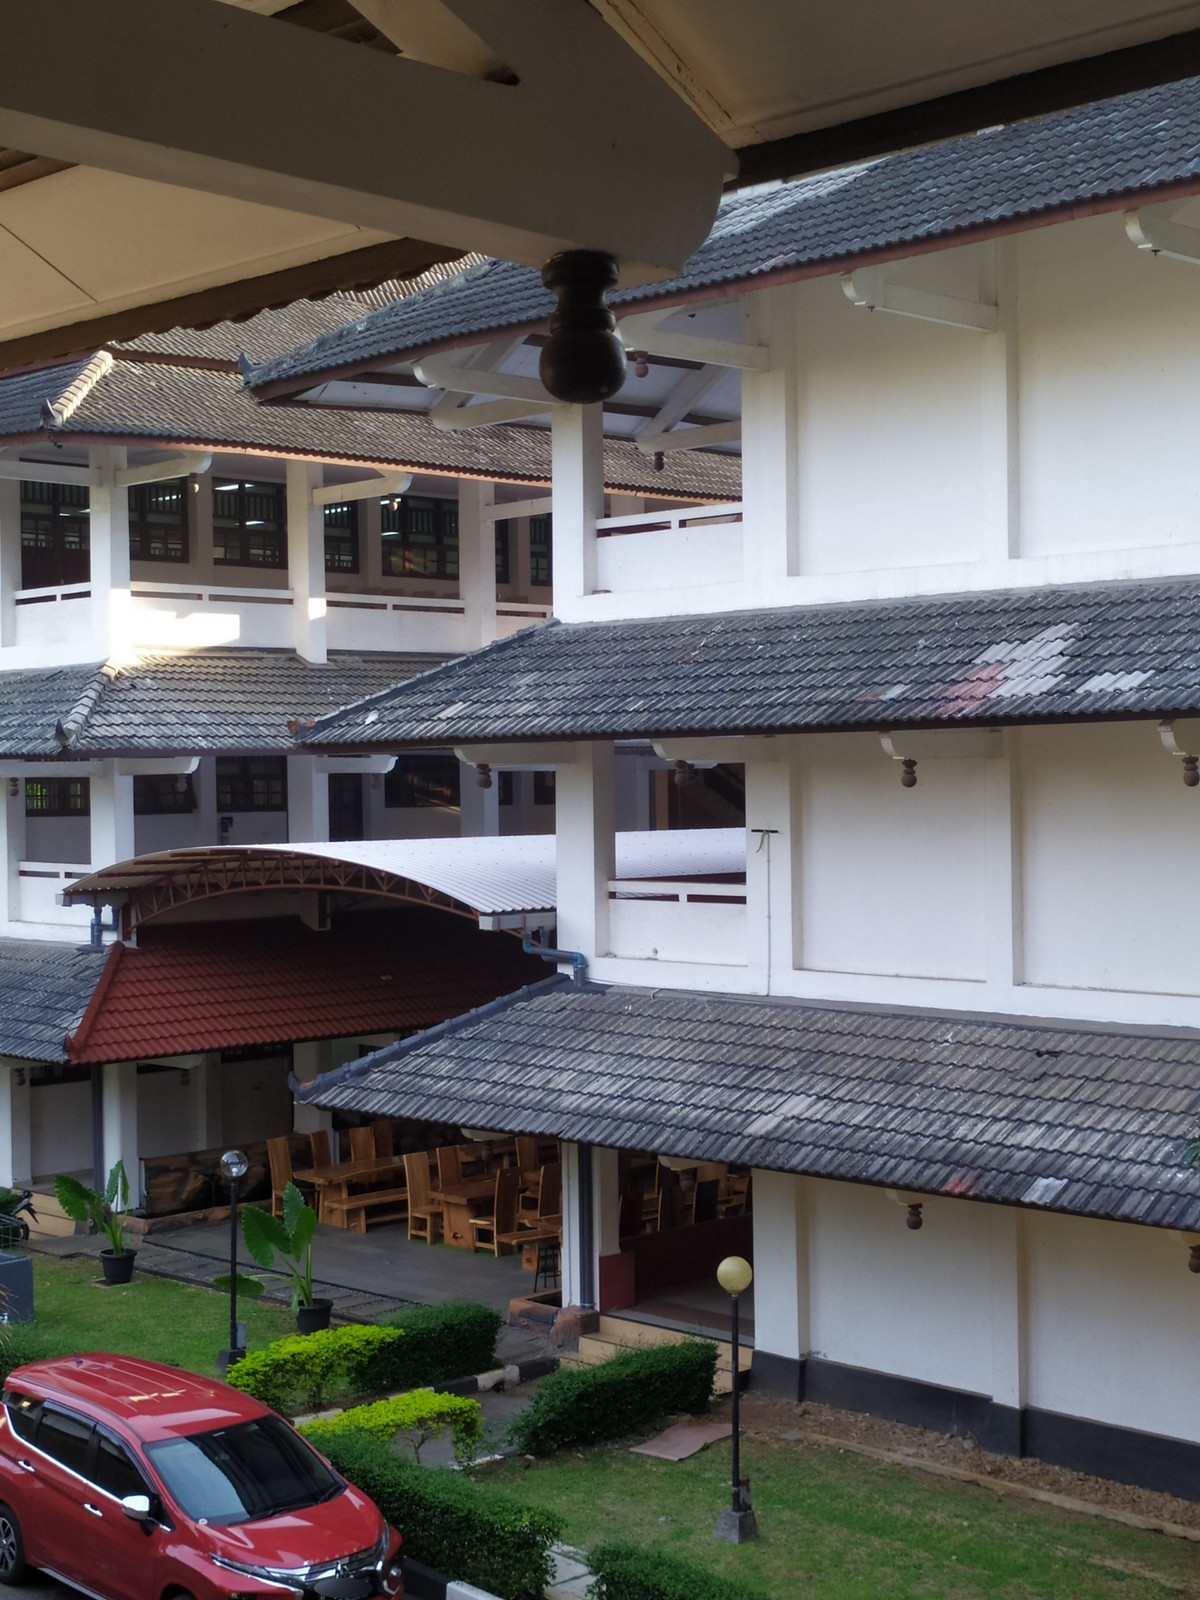concrete beam: (868, 283, 1008, 339), (644, 331, 776, 375)
concrete column: (734, 305, 808, 585), (548, 743, 620, 981), (742, 740, 808, 993), (546, 365, 608, 615), (79, 438, 141, 663), (284, 459, 339, 669), (86, 753, 137, 922), (96, 1051, 146, 1214), (453, 475, 499, 648)
